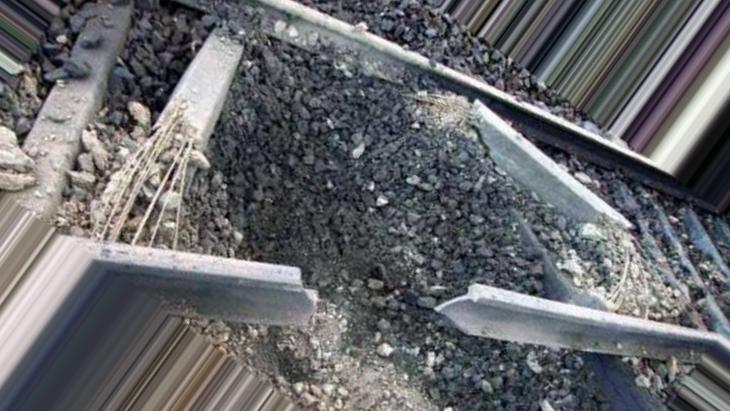tracks_fault: (268, 227, 512, 380), (80, 90, 200, 277), (594, 187, 710, 371), (431, 60, 515, 163)
